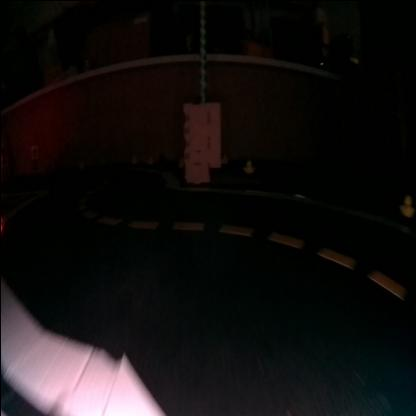Duckie: (400, 194, 412, 215), (244, 160, 252, 172)
